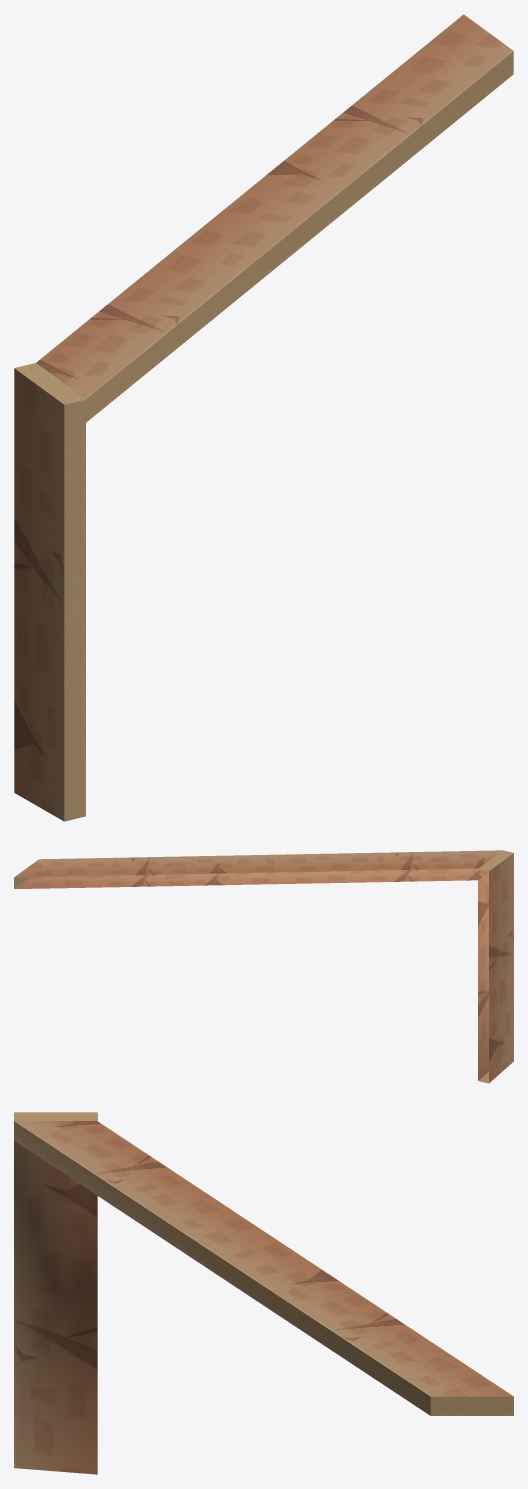
Rendered from terrace_04_3497c4c5__ZombiesII_depot_diffuse_03_573b45f4_c1f257.obj.
3 views of the same model, one above another, from view 1: azimuth 30°, elevation 25°; view 2: azimuth 150°, elevation 25°; view 3: azimuth 270°, elevation 25° (orthographic). The views are drawn at different scales.
Bounding box in the file's own units: 6.46 × 3.75 × 4.8.
Materials: 1 (1 with a texture image).
